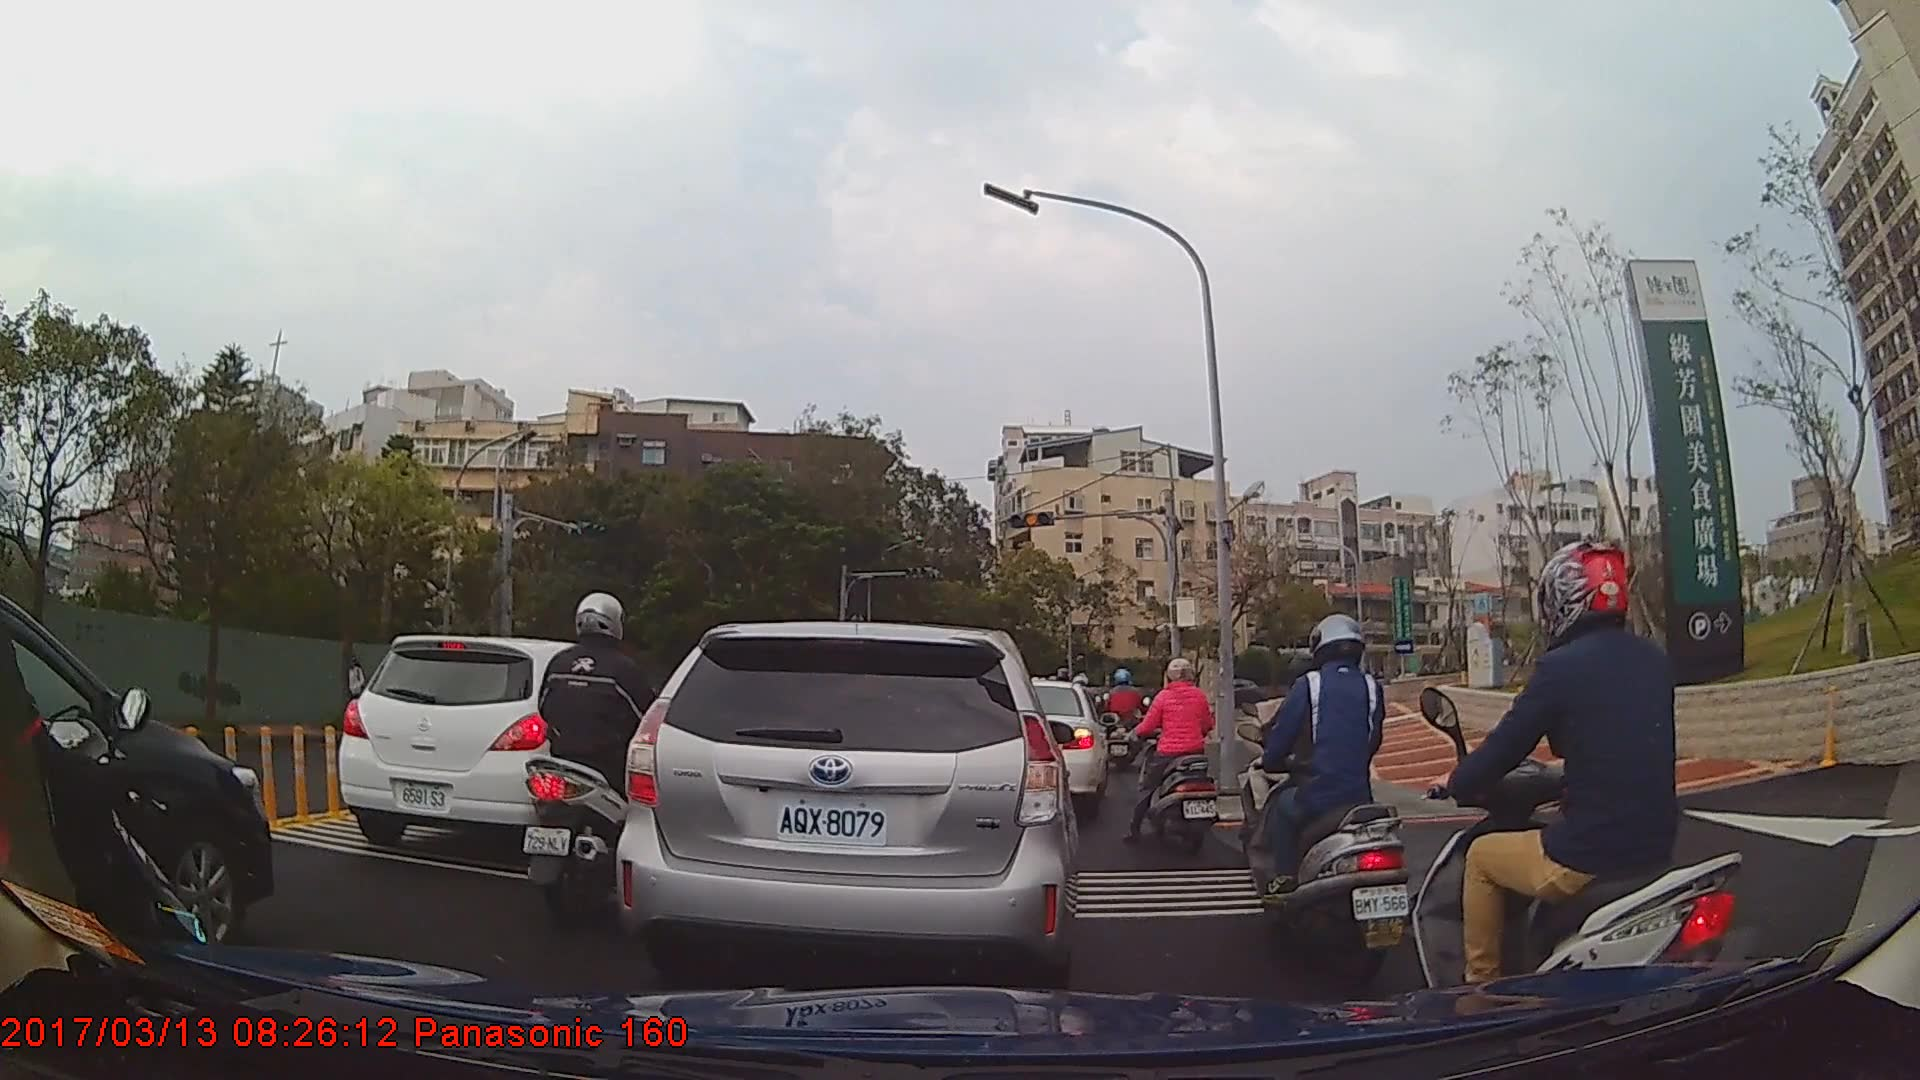pedestrian: (345, 655, 371, 731)
rider: (1423, 528, 1761, 1065), (1243, 615, 1414, 999), (515, 589, 676, 929), (1130, 659, 1224, 857), (1100, 666, 1147, 769)
vehicle: (612, 621, 1080, 1018), (0, 586, 275, 956), (336, 632, 667, 858), (1002, 677, 1109, 814), (1203, 679, 1262, 708)
